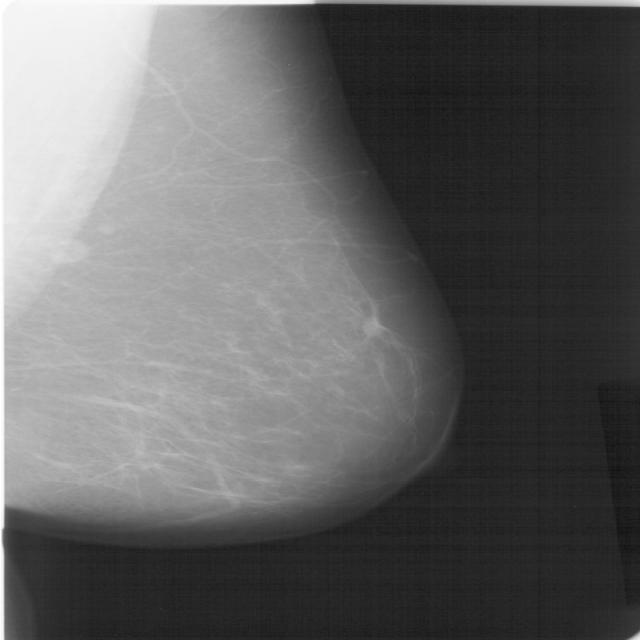tumour: (356, 314, 385, 340)
